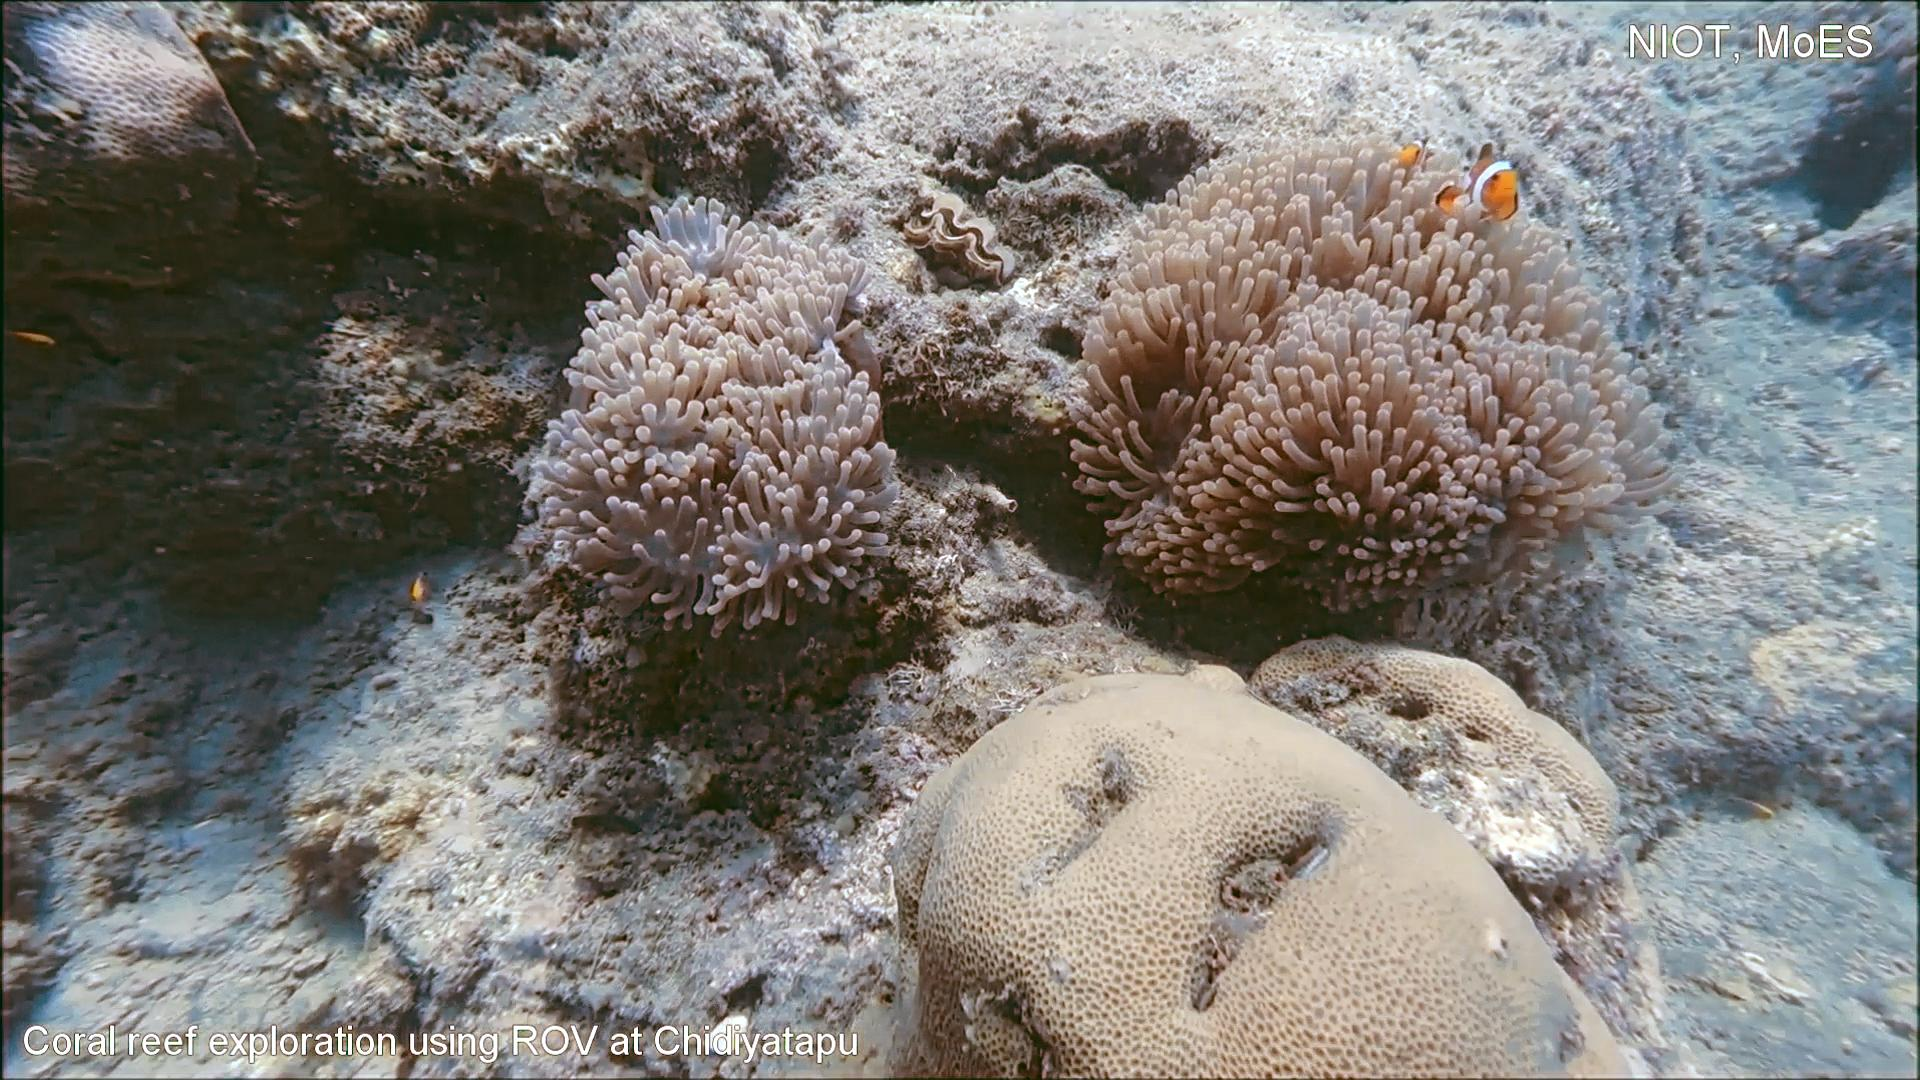Macrodactyla doreensis-Long tentacle Anemone: (1062, 123, 1697, 622), (510, 185, 913, 649)
Tridacna Clam: (882, 171, 1029, 298)
